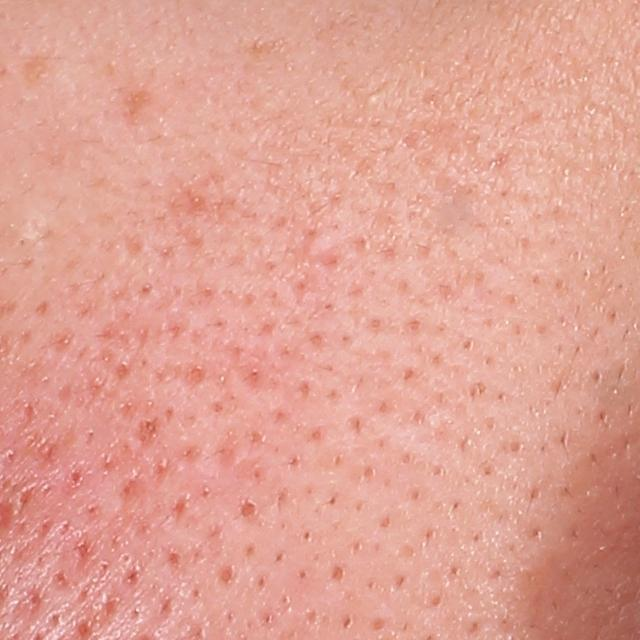comedo: (233, 498, 262, 525), (329, 565, 348, 585)
